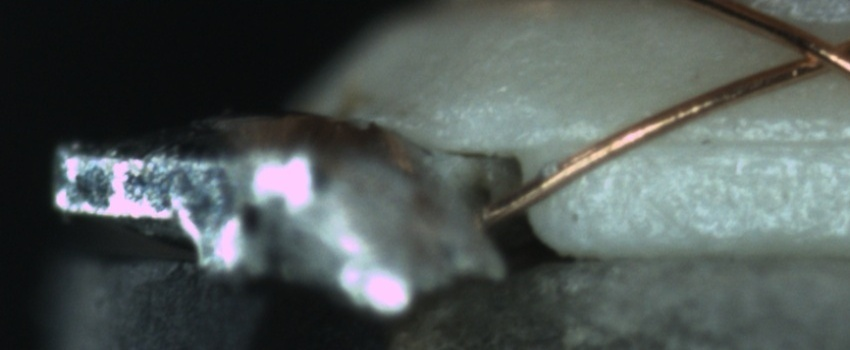CL: (773, 21, 848, 82)
DL: (566, 108, 846, 174)
